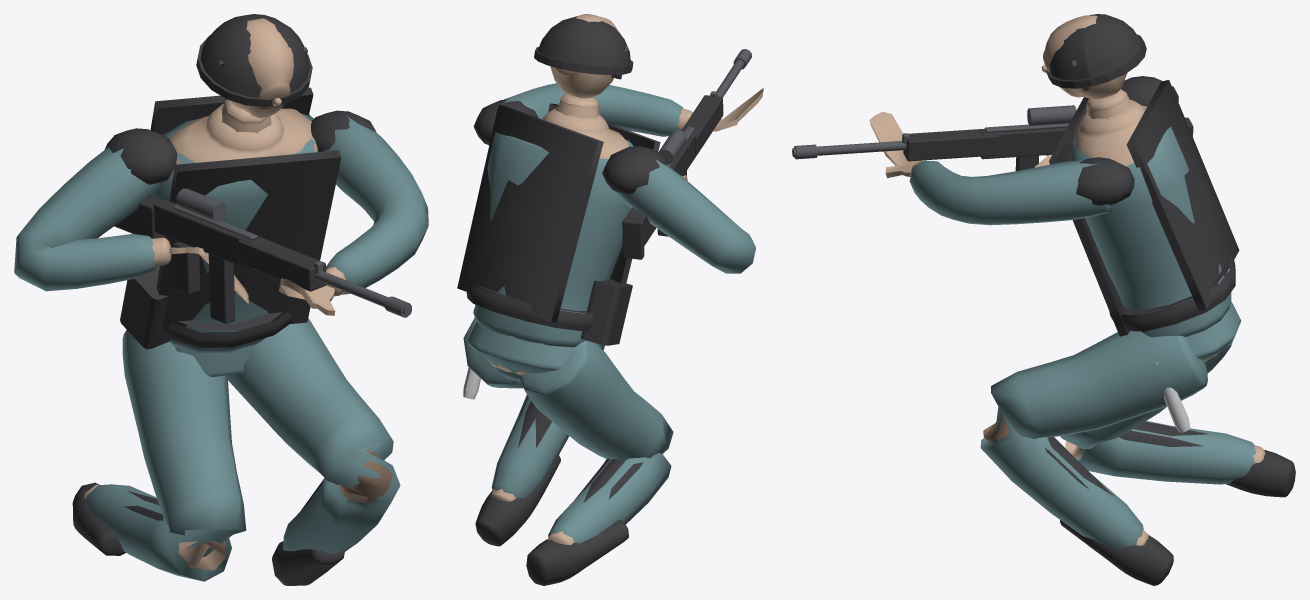
The model's file is tactical-shooter-hill-town-breacher-crouch-aim-a7d52918__27576.glb.
3 views of the same model, side by side, from view 1: azimuth 30°, elevation 25°; view 2: azimuth 150°, elevation 25°; view 3: azimuth 270°, elevation 25° (orthographic). The views are drawn at different scales.
Visible parts, largest first — view 1: breacher-crouch-aim; view 2: breacher-crouch-aim; view 3: breacher-crouch-aim.
Boxes of the visible parts, bbox=[...] form: breacher-crouch-aim: bbox=[14, 14, 428, 585]; breacher-crouch-aim: bbox=[457, 14, 763, 585]; breacher-crouch-aim: bbox=[792, 14, 1295, 585].
Size of the model in its own units: 0.809 by 1.38 by 1.18.
